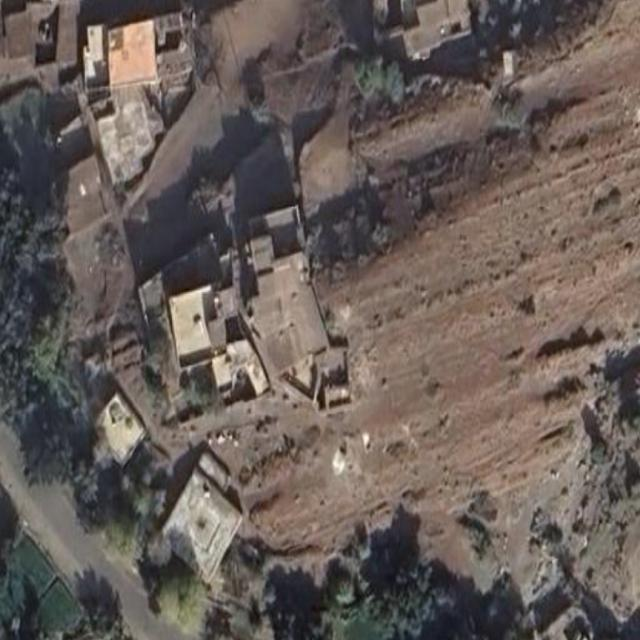Countryside roofs: (250, 244, 343, 392), (162, 461, 258, 582), (94, 86, 177, 206), (156, 270, 243, 372), (86, 366, 162, 472), (92, 16, 181, 94), (400, 0, 467, 101)
